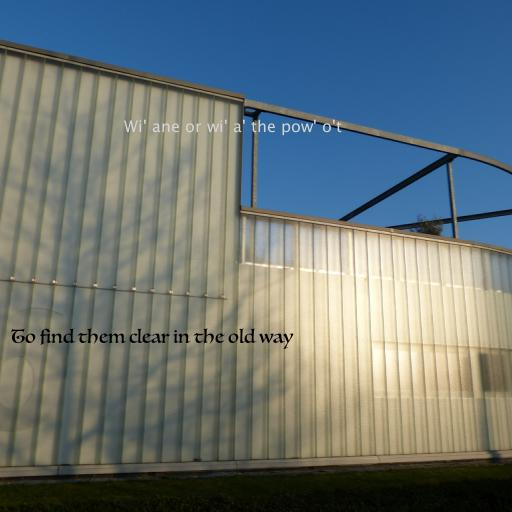Lucida Grande: (124, 119, 342, 136)
Luminari: (11, 328, 293, 349)
